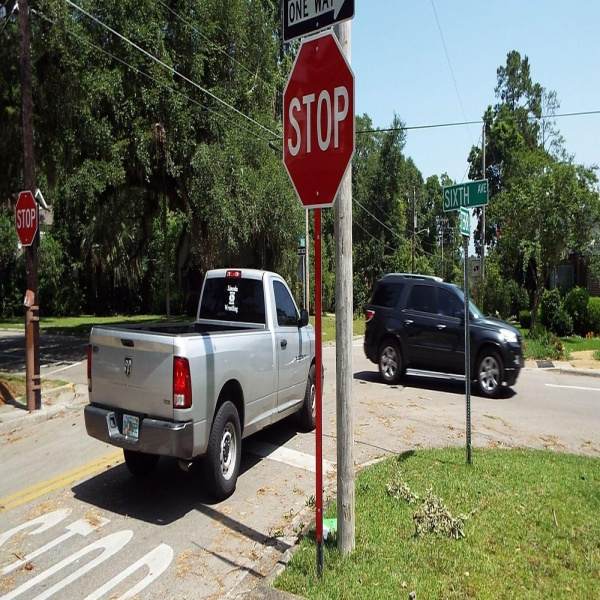stop: (277, 23, 361, 205)
